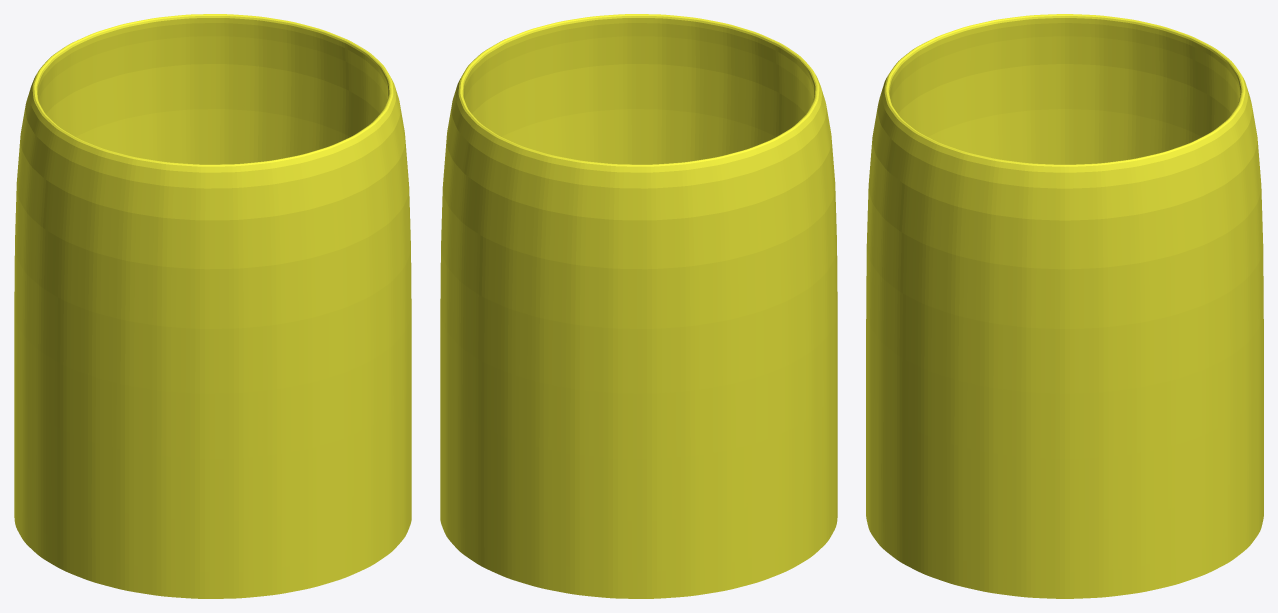
Rendered from jarYellow.fbx.
3 views of the same model, side by side, from view 1: azimuth 30°, elevation 25°; view 2: azimuth 150°, elevation 25°; view 3: azimuth 270°, elevation 25° (orthographic).
Parts seen in each view (by area): view 1: Cylinder; view 2: Cylinder; view 3: Cylinder.
Part boxes in pixels (bbox=[...]): Cylinder: bbox=[14, 14, 411, 598]; Cylinder: bbox=[440, 14, 837, 598]; Cylinder: bbox=[866, 14, 1263, 598].
Size of the model in its own units: 199 by 235 by 199.
